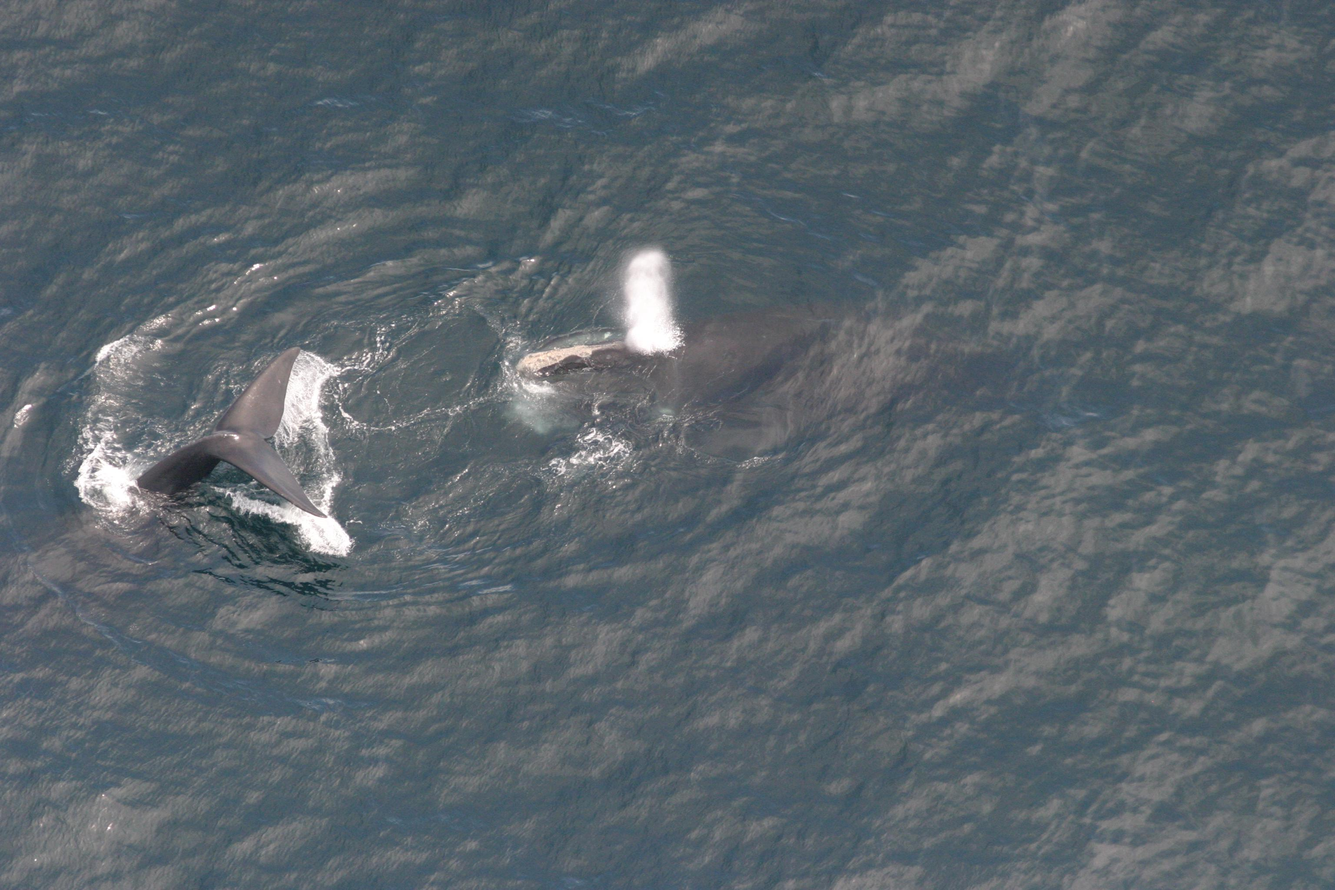whale: (498, 269, 1102, 436), (0, 340, 336, 584)
